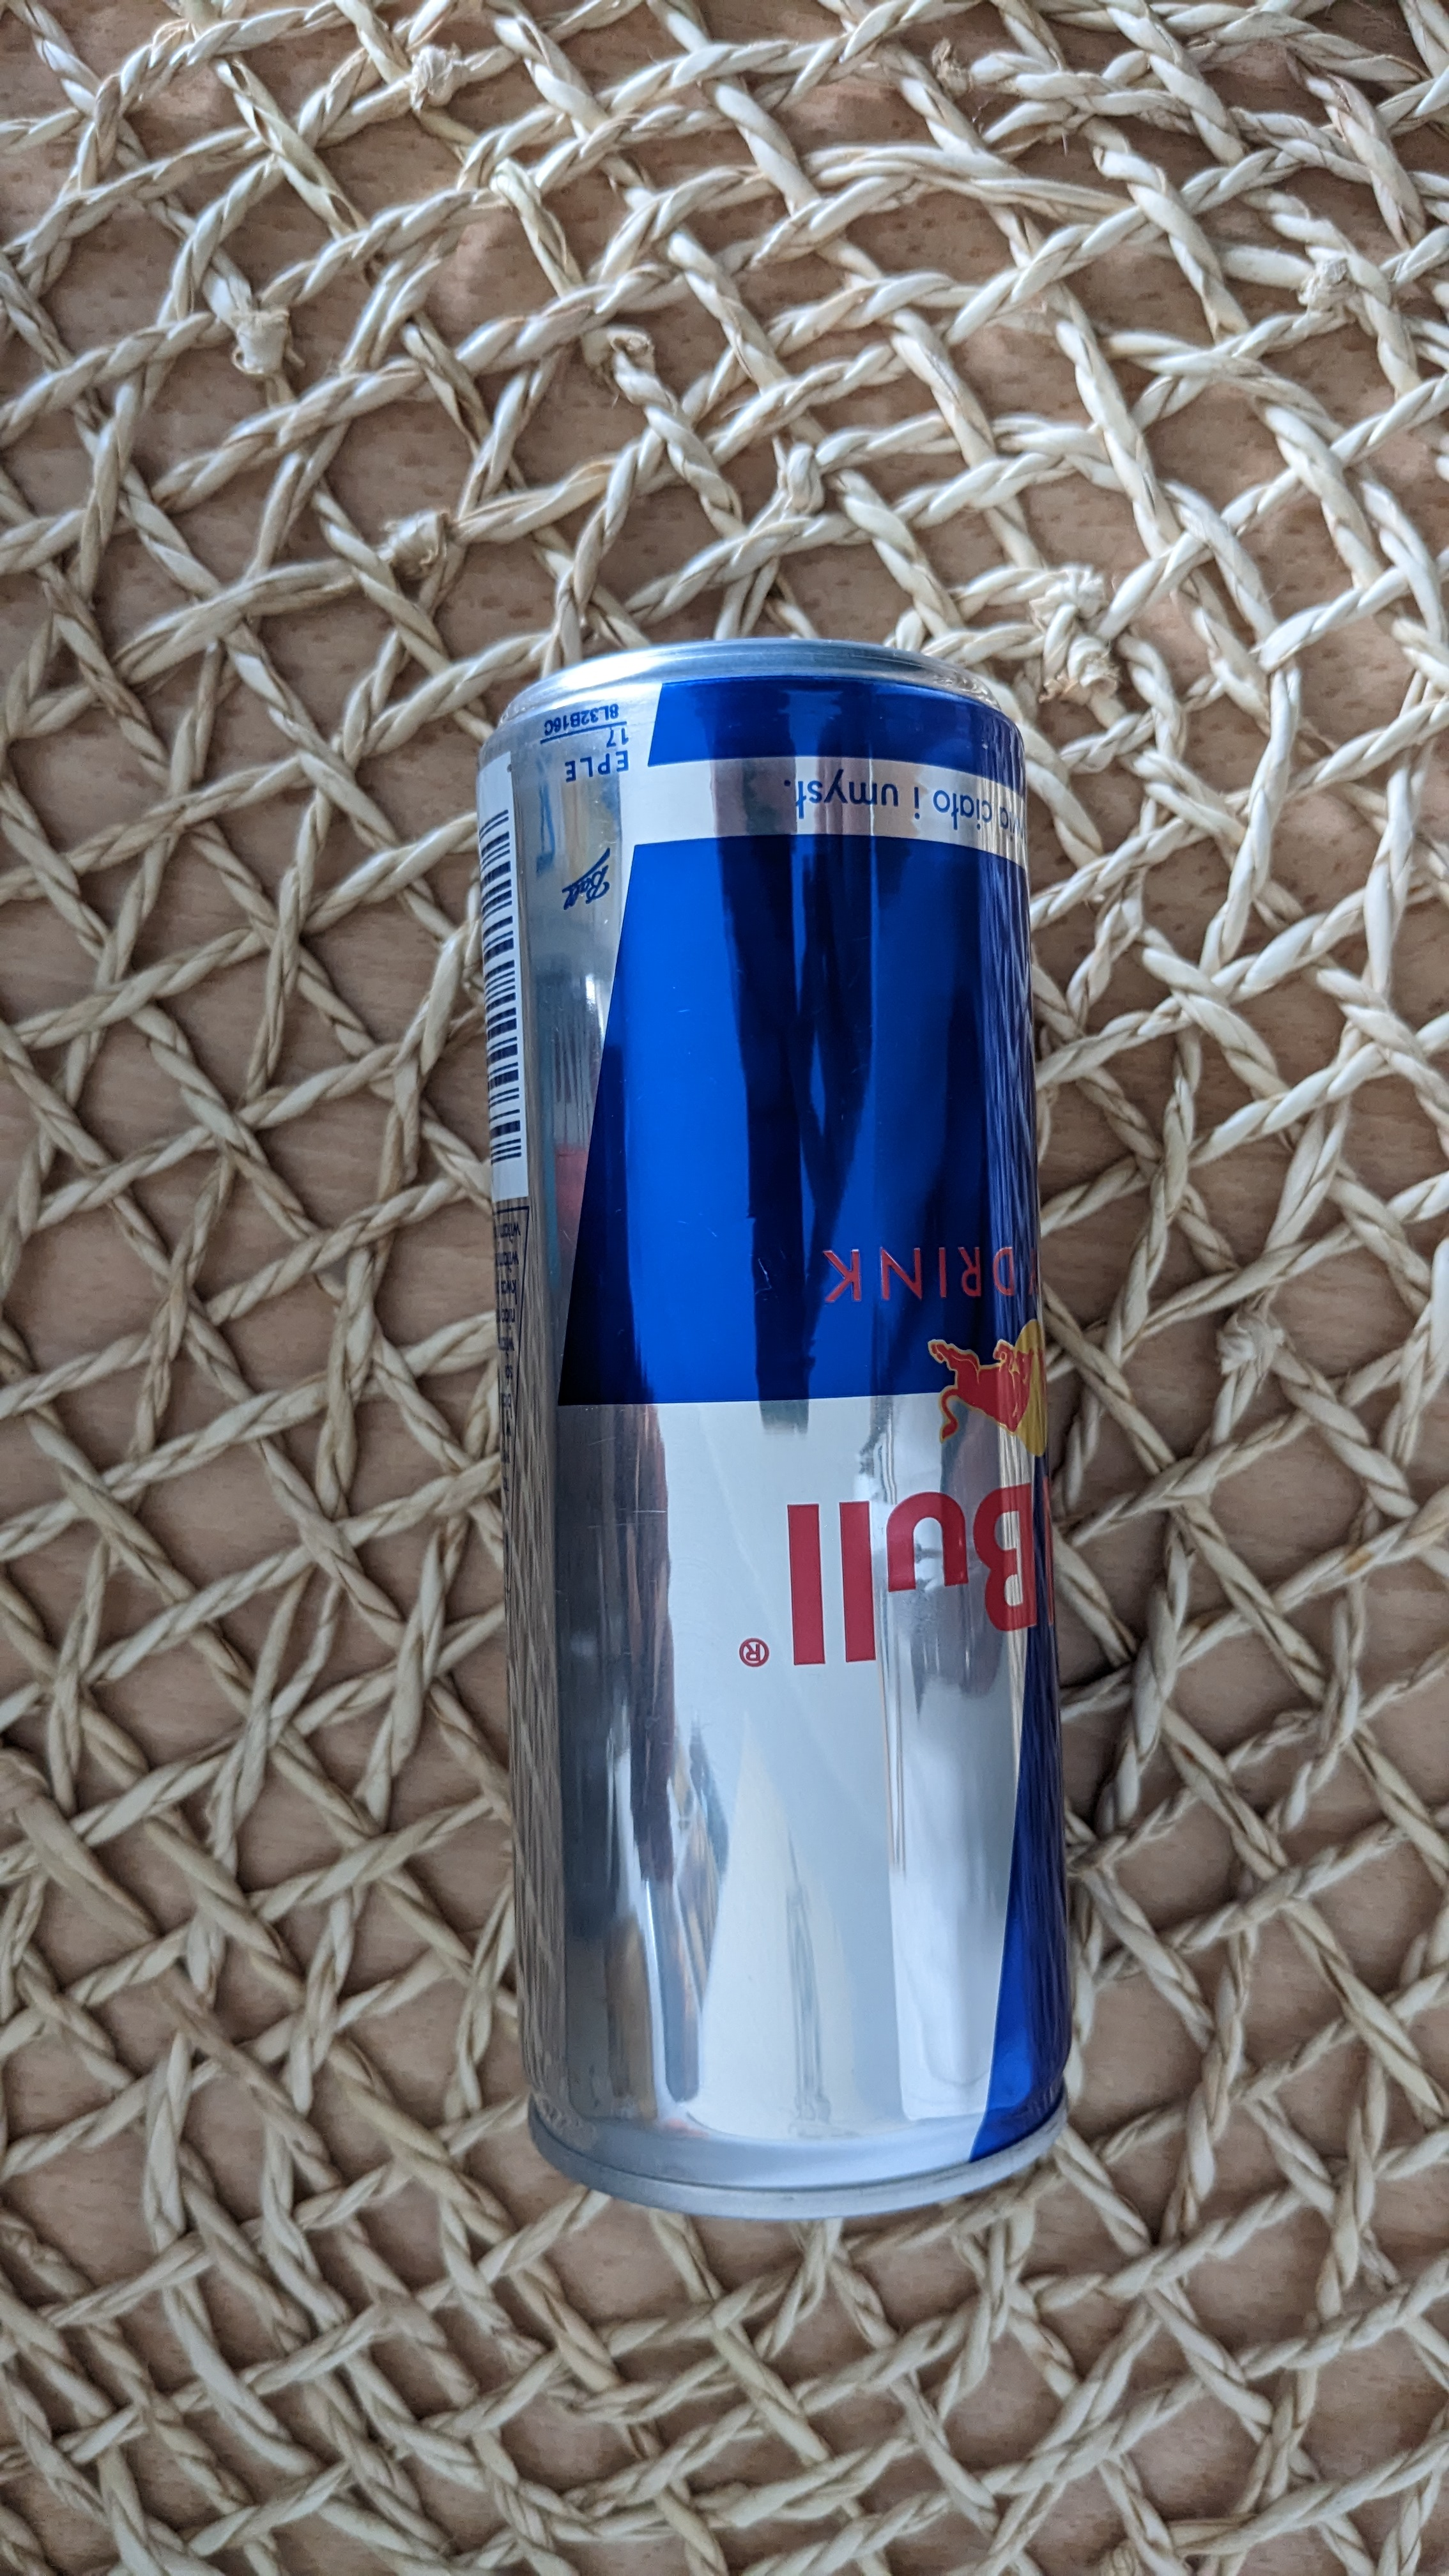red-bull: (444, 621, 1108, 2265)
